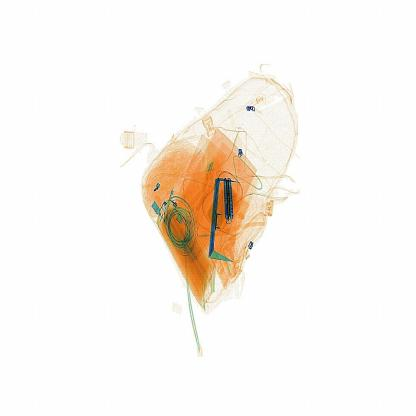scissors: (222, 176, 238, 223)
